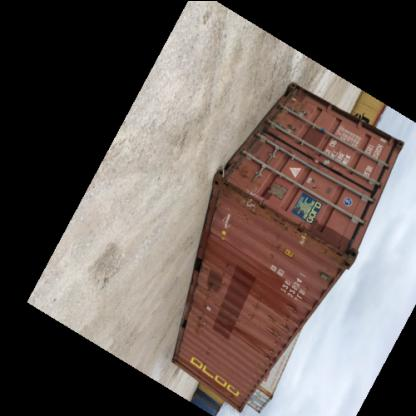Damage: (224, 173, 286, 223), (298, 221, 350, 262), (266, 295, 301, 351), (197, 286, 213, 338), (288, 86, 312, 118), (272, 233, 294, 266), (303, 168, 327, 192), (221, 253, 239, 281), (202, 342, 214, 364)
